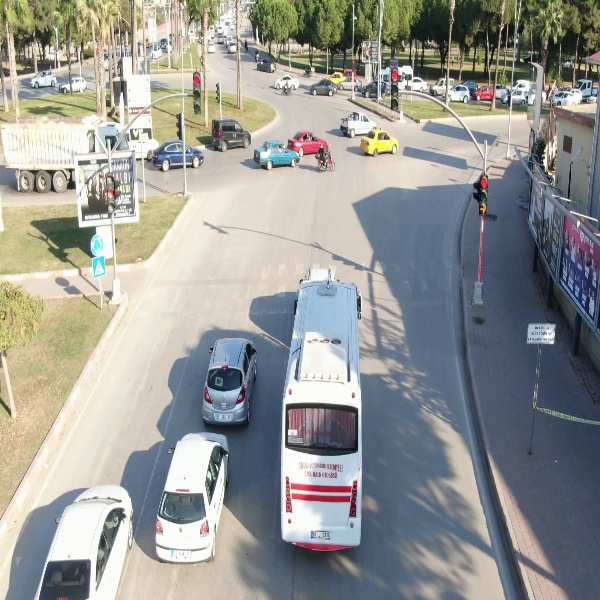car: (150, 428, 233, 563), (198, 336, 259, 426), (152, 139, 205, 173), (253, 139, 301, 172), (210, 119, 253, 150), (358, 127, 400, 158), (29, 66, 58, 89), (310, 78, 339, 99), (58, 74, 89, 93), (446, 82, 472, 103), (253, 58, 281, 73)
